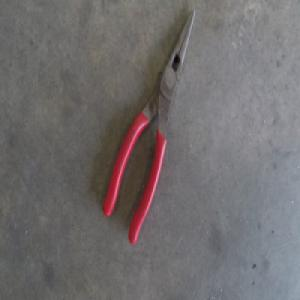Pliers: (105, 11, 195, 243)
